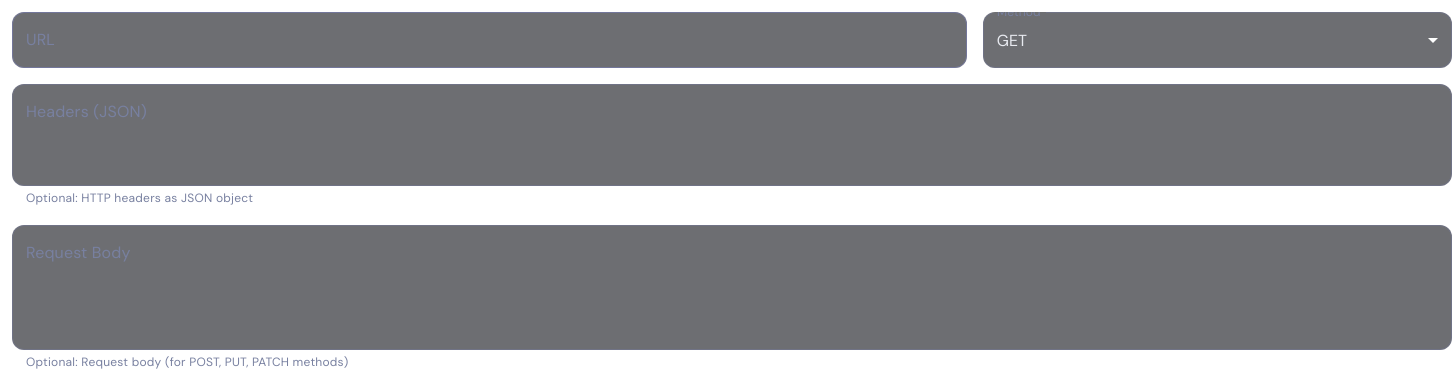
Scenario: HttpRequestConfig › shows error when invalid JSON entered for headers
Replace the text in the text box labelled "Headers (JSON)" with "not valid json": coordinates (732, 135) x1=26 y1=100 x2=1438 y2=170
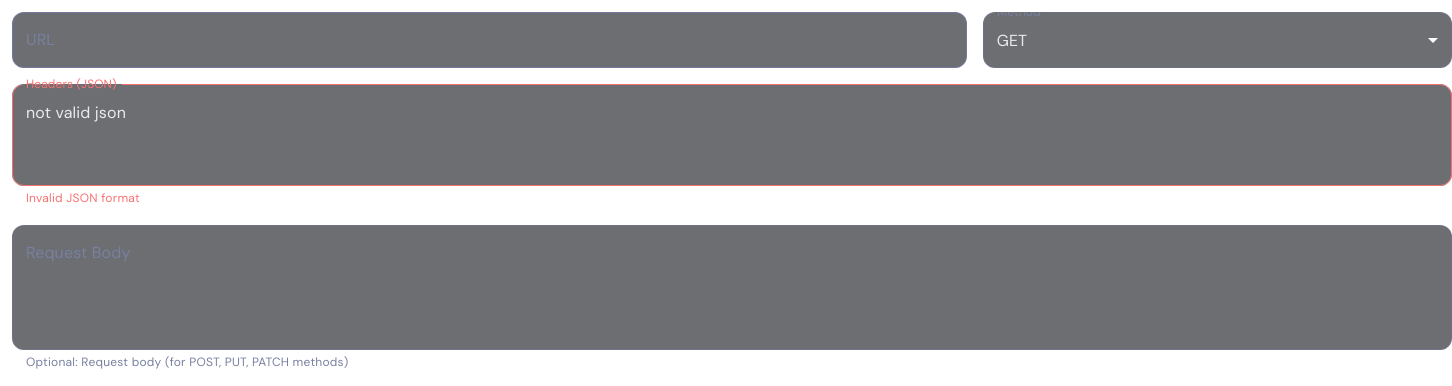
Now the text "Invalid JSON format" is shown, box x1=26 y1=190 x2=140 y2=206
